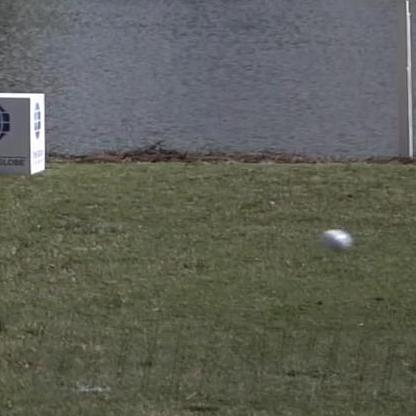golfball: (316, 223, 352, 257)
